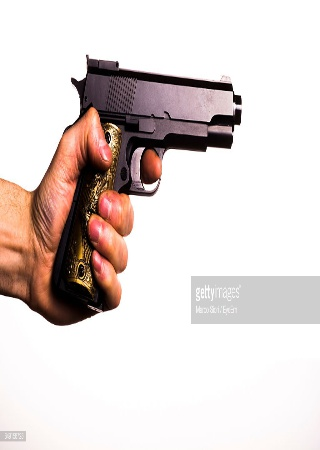handgun: (55, 48, 246, 305)
